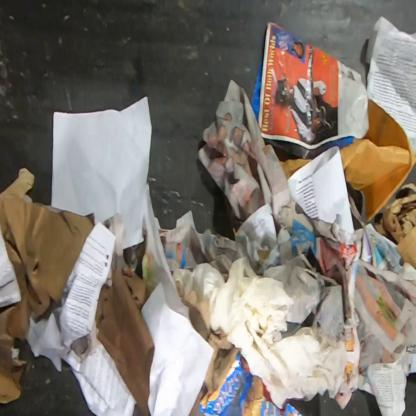cardboard: (0, 167, 95, 404), (94, 268, 156, 415), (396, 223, 415, 271)
soft_plastic: (198, 351, 305, 415)
